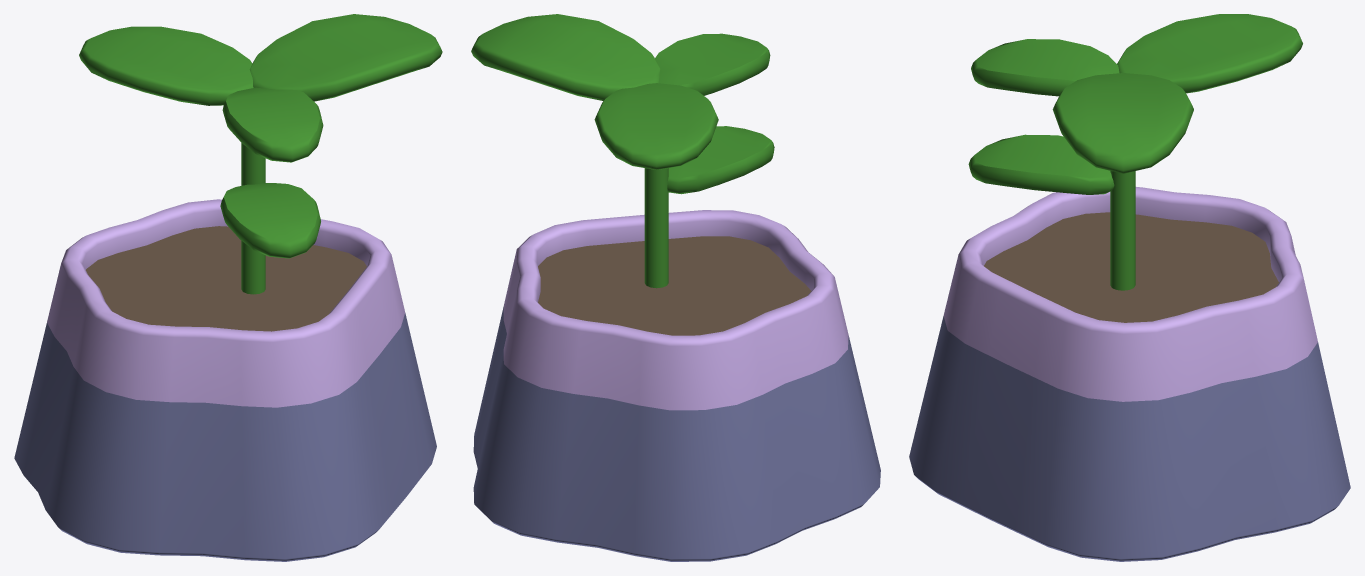
The model's file is Plant_25.glb.
3 views of the same model, side by side, from view 1: azimuth 30°, elevation 25°; view 2: azimuth 150°, elevation 25°; view 3: azimuth 270°, elevation 25° (orthographic). The views are drawn at different scales.
Parts seen in each view (by area): view 1: Plant_25; view 2: Plant_25; view 3: Plant_25.
Part boxes in pixels (x1,y1,x2,y2): Plant_25: (14, 14, 442, 561); Plant_25: (471, 14, 880, 561); Plant_25: (909, 14, 1350, 561).
Bounding box in the file's own units: 0.3321 × 0.3337 × 0.3162.
Materials: 1 (1 with a texture image).
